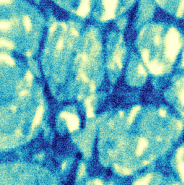hole_filled: (42, 15, 108, 104), (0, 48, 48, 147), (132, 19, 182, 75), (118, 49, 150, 94)
